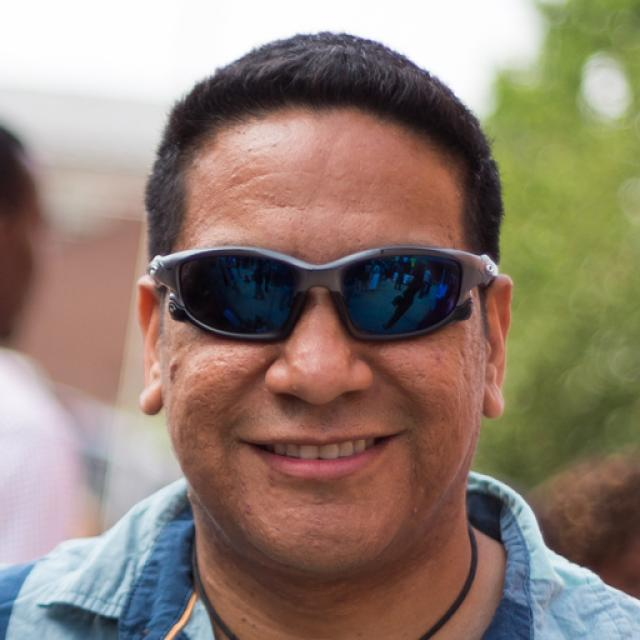Acne: (162, 352, 185, 390), (284, 376, 307, 399), (251, 186, 276, 203), (224, 165, 242, 183), (405, 506, 422, 518)
Wrinkle: (225, 167, 283, 192)
